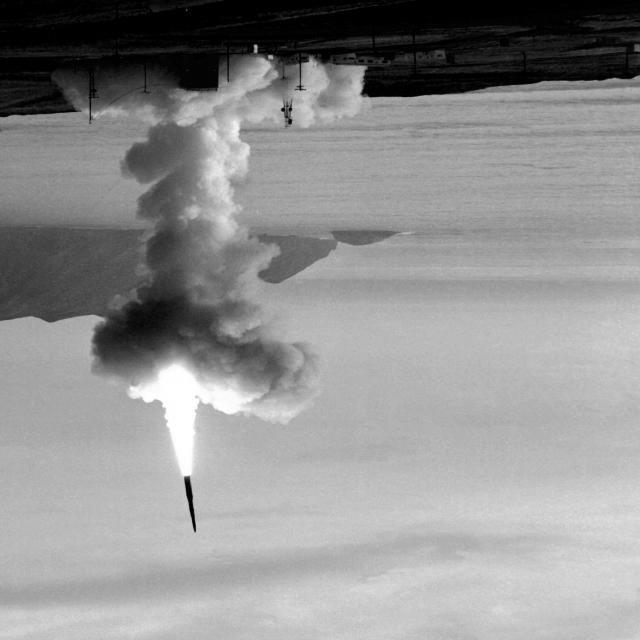missile: (166, 475, 214, 533)
